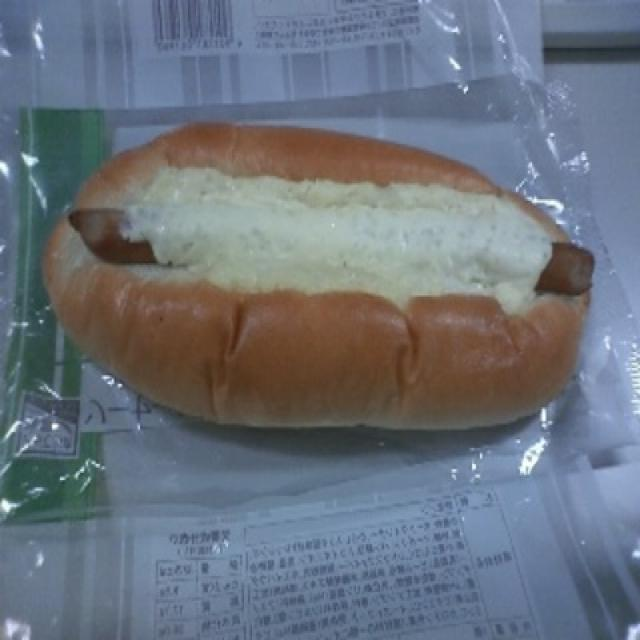三明治: (52, 119, 592, 432)
